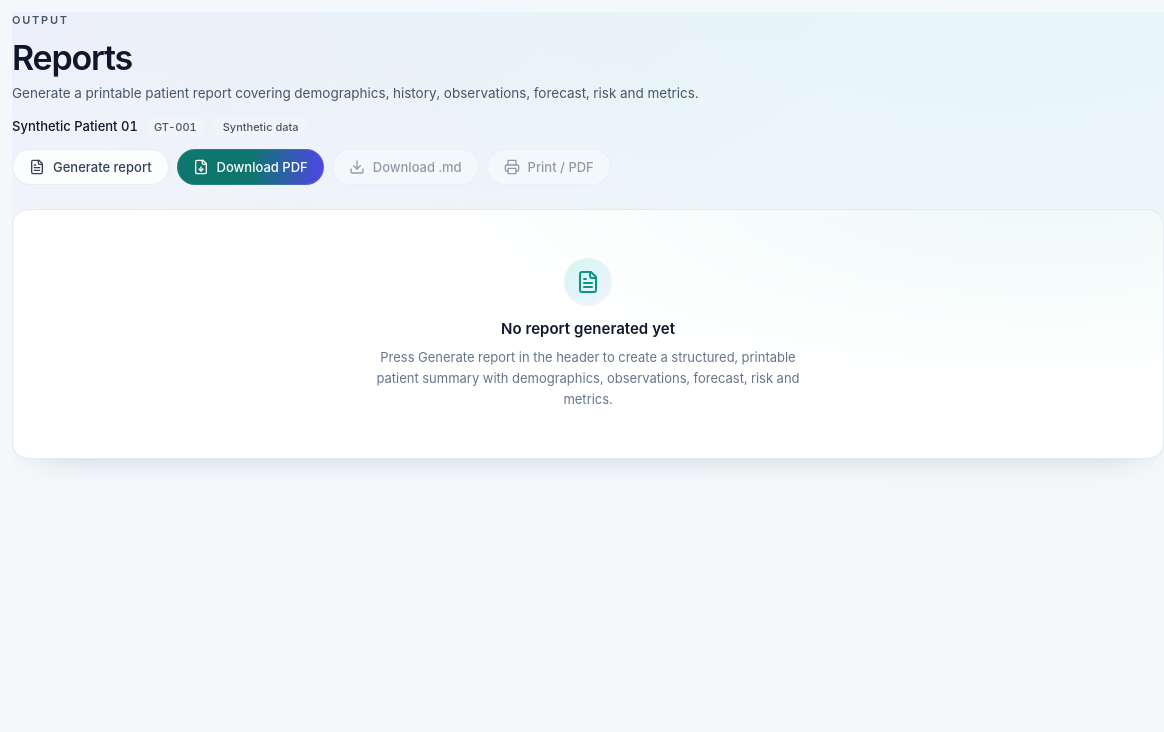
Test: Reports › surfaces a PDF download error
Step 1. Click the button with test id "download-pdf" → (250, 167), box 177,149 -> 324,185
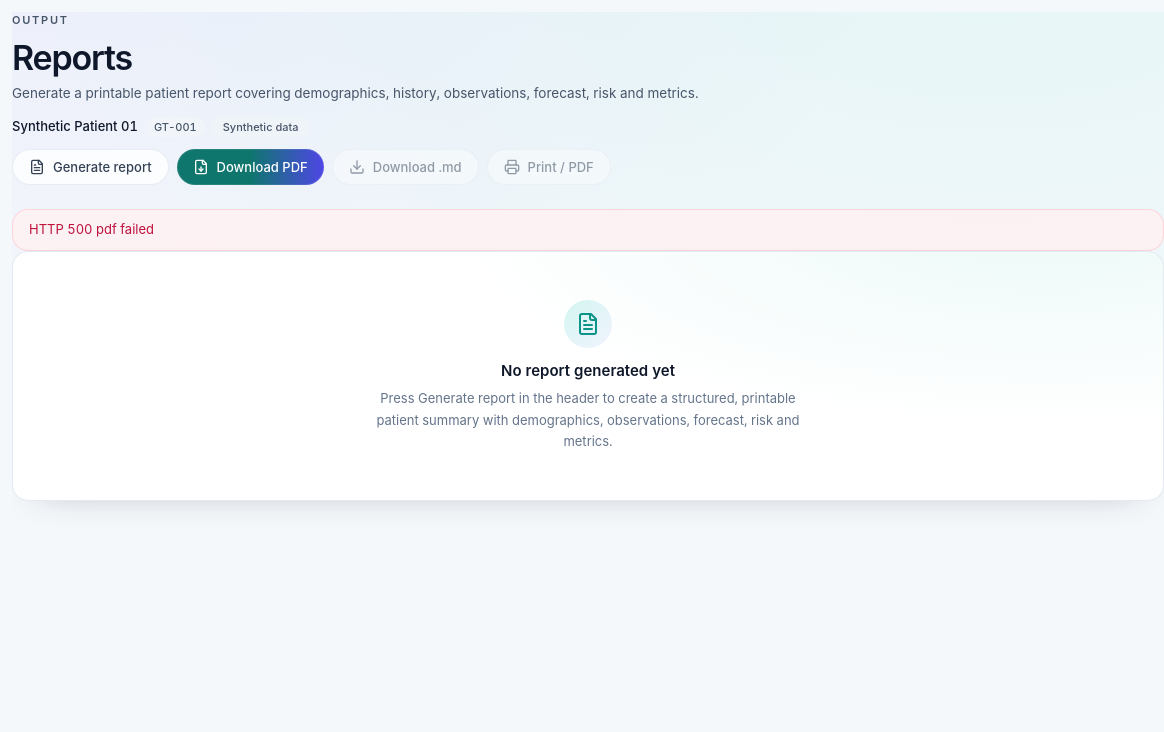
Check: the text "HTTP 500 pdf failed" is shown, box 29,220 -> 154,240
